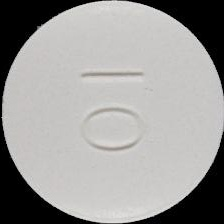16729-140: (0, 0, 224, 224)
